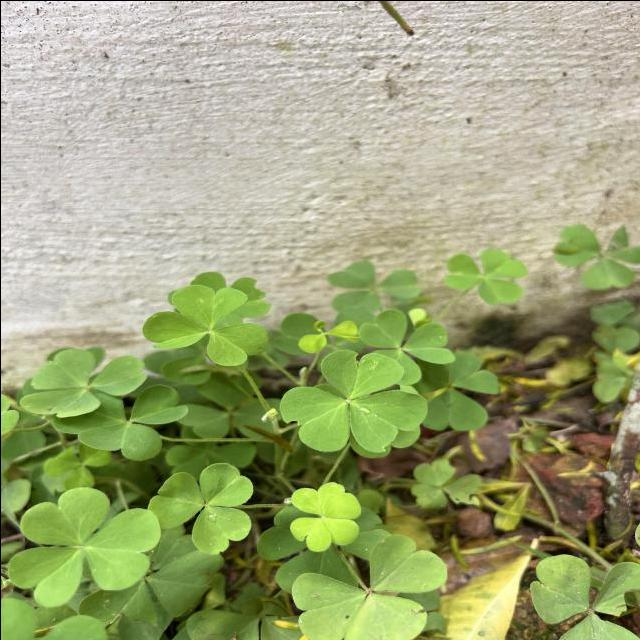Oxalis corniculata: (5, 484, 162, 608), (290, 531, 448, 640), (278, 346, 427, 454), (140, 283, 268, 367), (522, 549, 640, 640), (146, 460, 254, 555), (16, 346, 147, 418), (357, 308, 453, 384), (288, 478, 362, 554), (440, 246, 528, 305)
